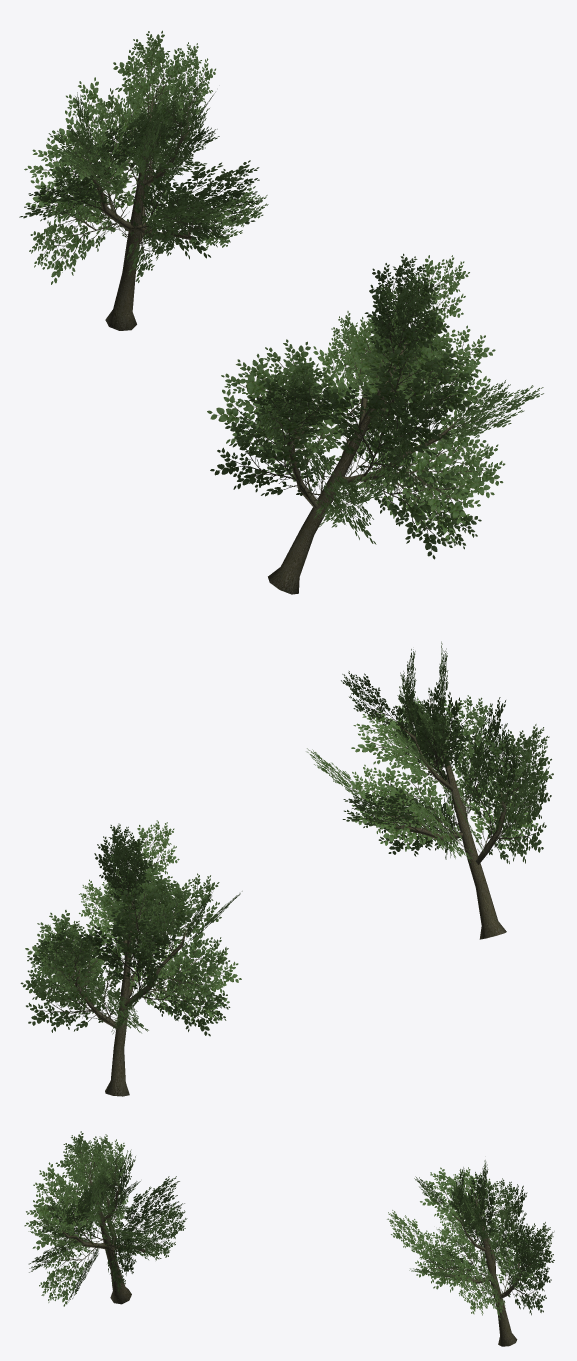
Rendered from Trees_1_Left_Far_COMBO.fbx.
3 renders of one model, top to bottom at view 1: azimuth 30°, elevation 25°; view 2: azimuth 150°, elevation 25°; view 3: azimuth 270°, elevation 25°, orthographic. The views are drawn at different scales.
Parts seen in each view (by area): view 1: Sun_0013_Large_tree; view 2: Sun_0013_Large_tree; view 3: Sun_0013_Large_tree.
Boxes of the visible parts, <box> form: Sun_0013_Large_tree: <box>19,30,543,594</box>; Sun_0013_Large_tree: <box>20,641,553,1096</box>; Sun_0013_Large_tree: <box>24,1131,554,1346</box>.
Bounding box in the file's own units: 31.48 × 28.48 × 68.47.
